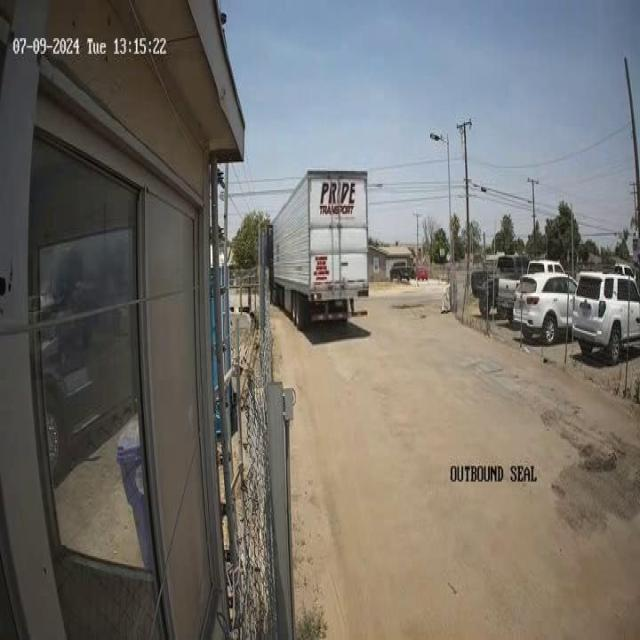TRUCK_OUT: (269, 168, 369, 333)
